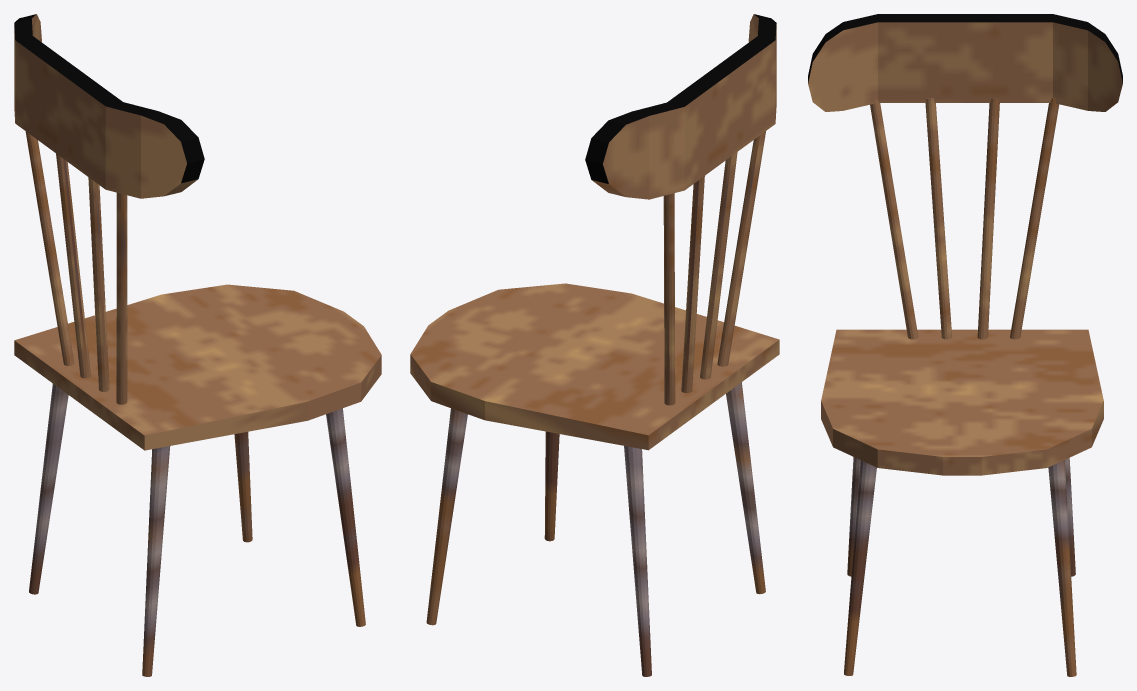
Rendered from ps1chairbad.glb.
The picture shows the model from 3 angles, left to right: view 1: azimuth 30°, elevation 25°; view 2: azimuth 150°, elevation 25°; view 3: azimuth 270°, elevation 25°; orthographic projection. The views are drawn at different scales.
Visible parts, largest first — view 1: Cube; view 2: Cube; view 3: Cube.
Boxes of the visible parts, x1=… form: Cube: x1=14, y1=14, x2=381, y2=676; Cube: x1=410, y1=14, x2=779, y2=676; Cube: x1=808, y1=14, x2=1122, y2=676.
Size of the model in its own units: 0.5277 by 0.9784 by 0.5098.
Materials: 1 (1 with a texture image).
